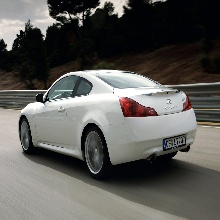no damage: (17, 69, 198, 178)
